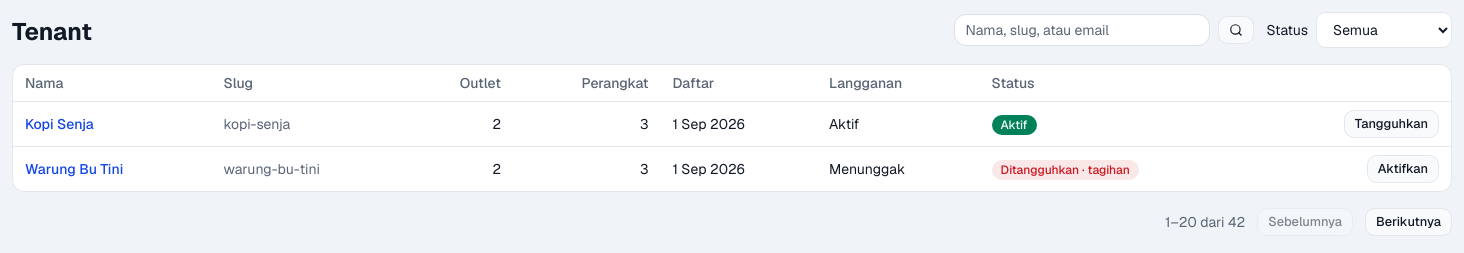
Test: TenantsScreen › pages through the tenants
Expected: the text "1–20 dari 42" is shown, 1165,212 -> 1245,232
Expected: the button "Sebelumnya" is disabled, 1257,208 -> 1353,236
Click the button "Berikutnya" at (1409, 222), box 1365,208 -> 1452,236
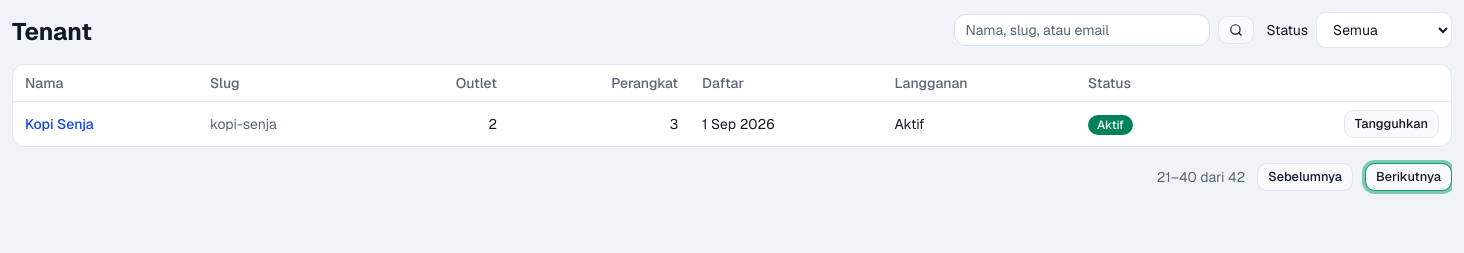
Now the text "21–40 dari 42" is shown, box 1157,167 -> 1245,187
